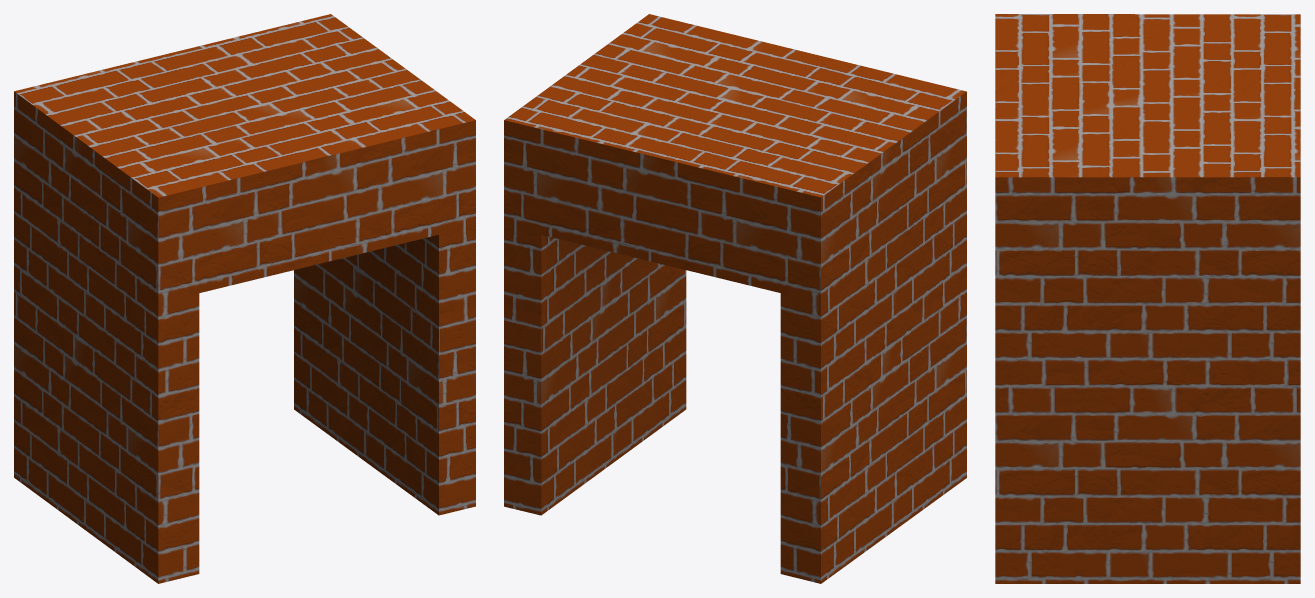
Rendered from Wall_Textured.fbx.
The picture shows the model from 3 angles, left to right: view 1: azimuth 30°, elevation 25°; view 2: azimuth 150°, elevation 25°; view 3: azimuth 270°, elevation 25°; orthographic projection. The views are drawn at different scales.
Parts seen in each view (by area): view 1: pCube221; view 2: pCube221; view 3: pCube221.
Boxes of the visible parts, x1,y1,x2,y2 form: pCube221: (14,14,475,583); pCube221: (504,14,966,583); pCube221: (995,14,1300,583).
Size of the model in its own units: 109 by 127 by 86.53.
